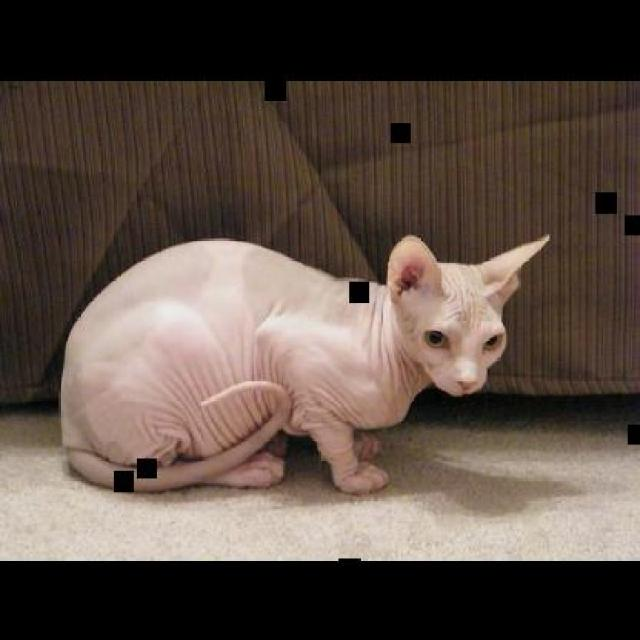unauthorized: (57, 231, 551, 495)
